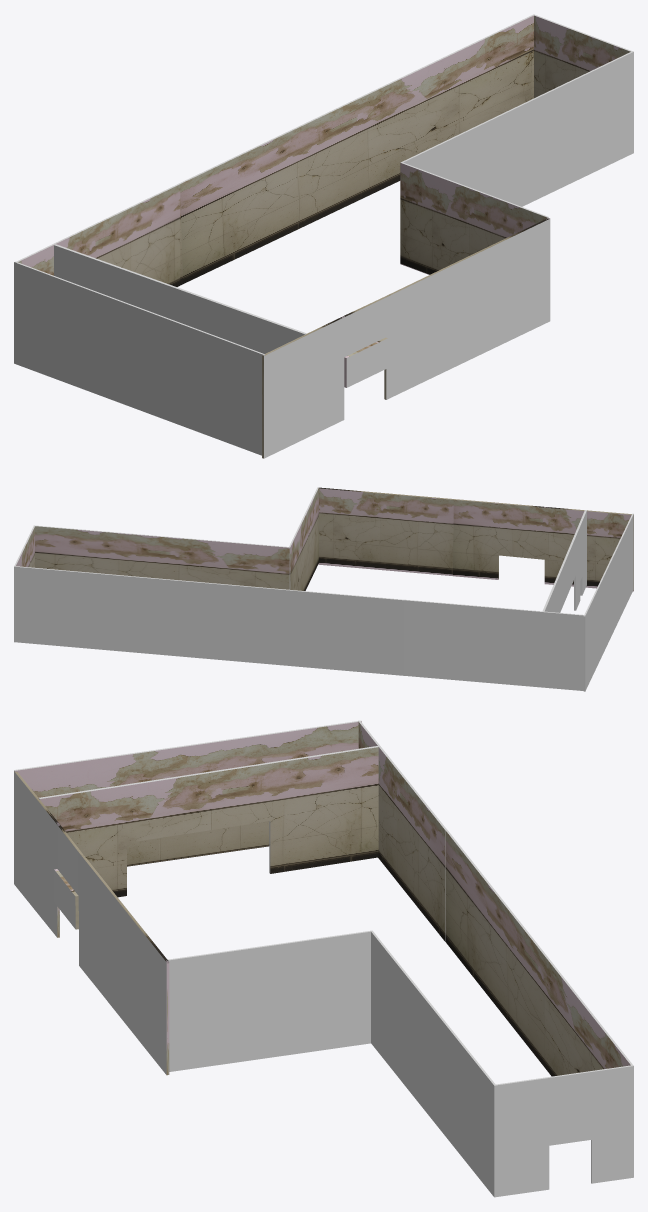
Rendered from paredes_hall_1.fbx.
3 views of the same model, one above another, from view 1: azimuth 30°, elevation 25°; view 2: azimuth 150°, elevation 25°; view 3: azimuth 270°, elevation 25° (orthographic). The views are drawn at different scales.
Parts seen in each view (by area): view 1: Pared.006, Pared.005, Pared.008, Pared.015, Pared.007, Pared.009, Pared.018, Pared.004, Pared.003; view 2: Pared.006, Pared.004, Pared.008, Pared.007, Pared.015, Pared.005, Pared.009, Pared.018, Pared.003; view 3: Pared.018, Pared.009, Pared.006, Pared.008, Pared.003, Pared.005, Pared.015, Pared.004, Pared.007.
Part boxes in pixels (bbox=[...]): Pared.006: bbox=[179, 15, 533, 285]; Pared.005: bbox=[14, 261, 264, 455]; Pared.008: bbox=[402, 51, 633, 206]; Pared.015: bbox=[262, 277, 427, 458]; Pared.007: bbox=[425, 218, 550, 379]; Pared.009: bbox=[400, 162, 548, 274]; Pared.018: bbox=[54, 244, 306, 353]; Pared.004: bbox=[15, 183, 180, 286]; Pared.003: bbox=[533, 14, 632, 98]; Pared.006: bbox=[14, 566, 404, 675]; Pared.004: bbox=[404, 599, 585, 690]; Pared.008: bbox=[34, 525, 289, 589]; Pared.007: bbox=[318, 487, 453, 575]; Pared.015: bbox=[453, 499, 633, 591]; Pared.005: bbox=[583, 513, 633, 691]; Pared.009: bbox=[289, 487, 318, 590]; Pared.018: bbox=[542, 510, 586, 612]; Pared.003: bbox=[14, 525, 34, 642]; Pared.018: bbox=[38, 746, 378, 897]; Pared.009: bbox=[167, 930, 372, 1071]; Pared.006: bbox=[445, 829, 632, 1076]; Pared.008: bbox=[371, 931, 496, 1197]; Pared.003: bbox=[494, 1065, 633, 1196]; Pared.005: bbox=[14, 720, 361, 866]; Pared.015: bbox=[14, 771, 102, 992]; Pared.004: bbox=[358, 720, 446, 941]; Pared.007: bbox=[100, 879, 169, 1075].
Size of the model in its own units: 6061 by 886 by 4344.
2 materials, 1 textured.
